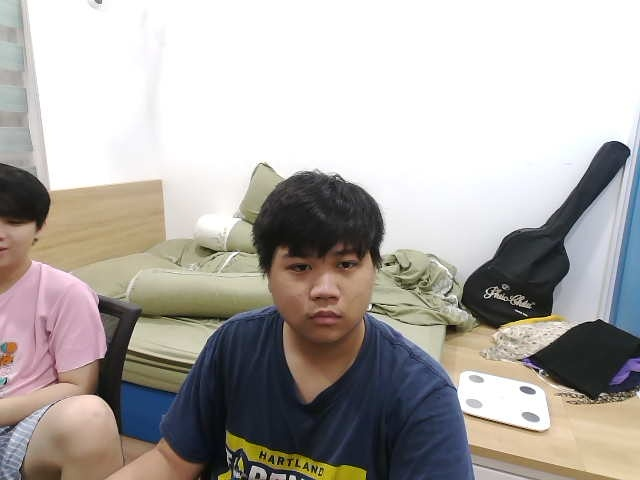face: (253, 172, 387, 341)
